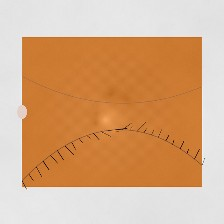pinguecula_lesion: (36, 86, 83, 124)
